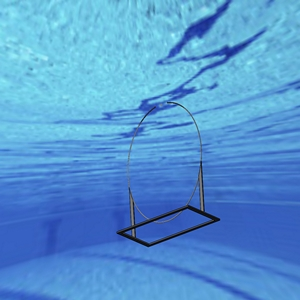circle: (116, 100, 221, 247)
